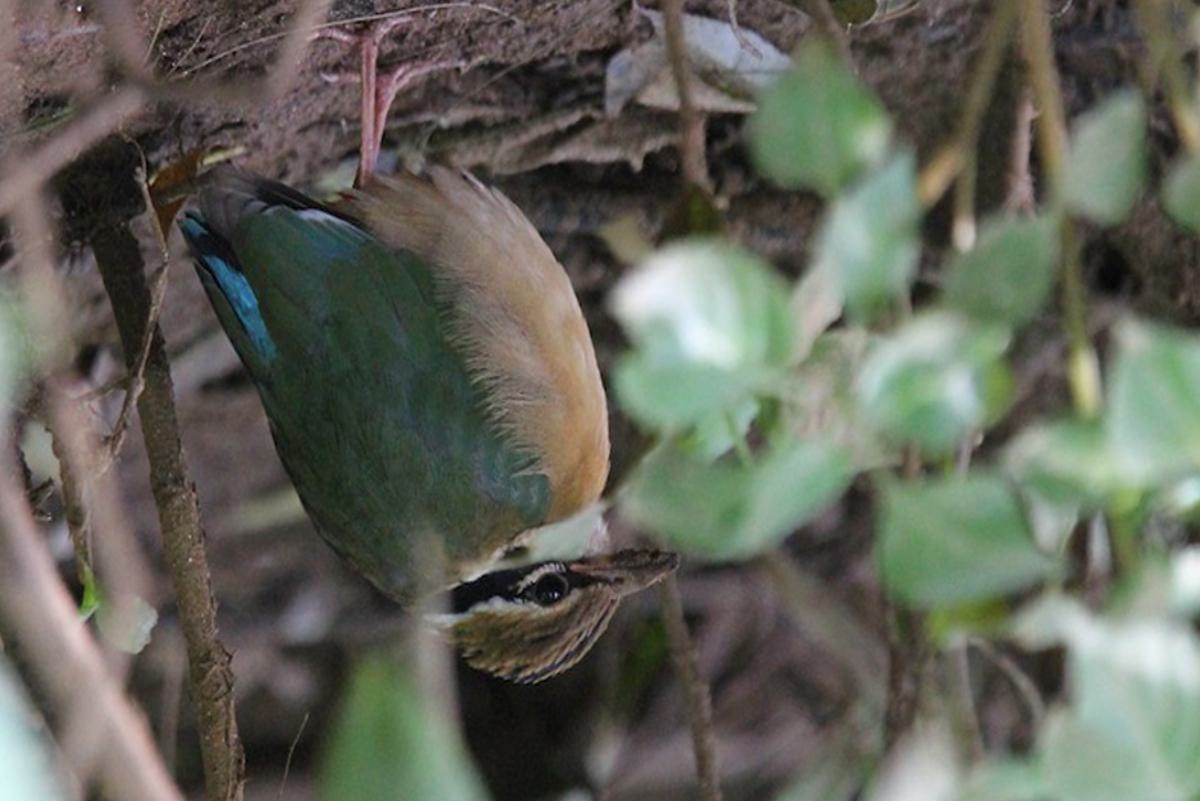pitta: (244, 94, 684, 646)
